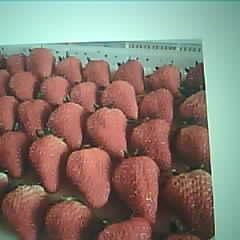straw-ripe: (167, 168, 215, 233), (67, 147, 114, 208), (115, 156, 159, 220), (1, 184, 46, 240), (87, 107, 130, 158), (29, 135, 67, 192), (49, 103, 88, 150)
